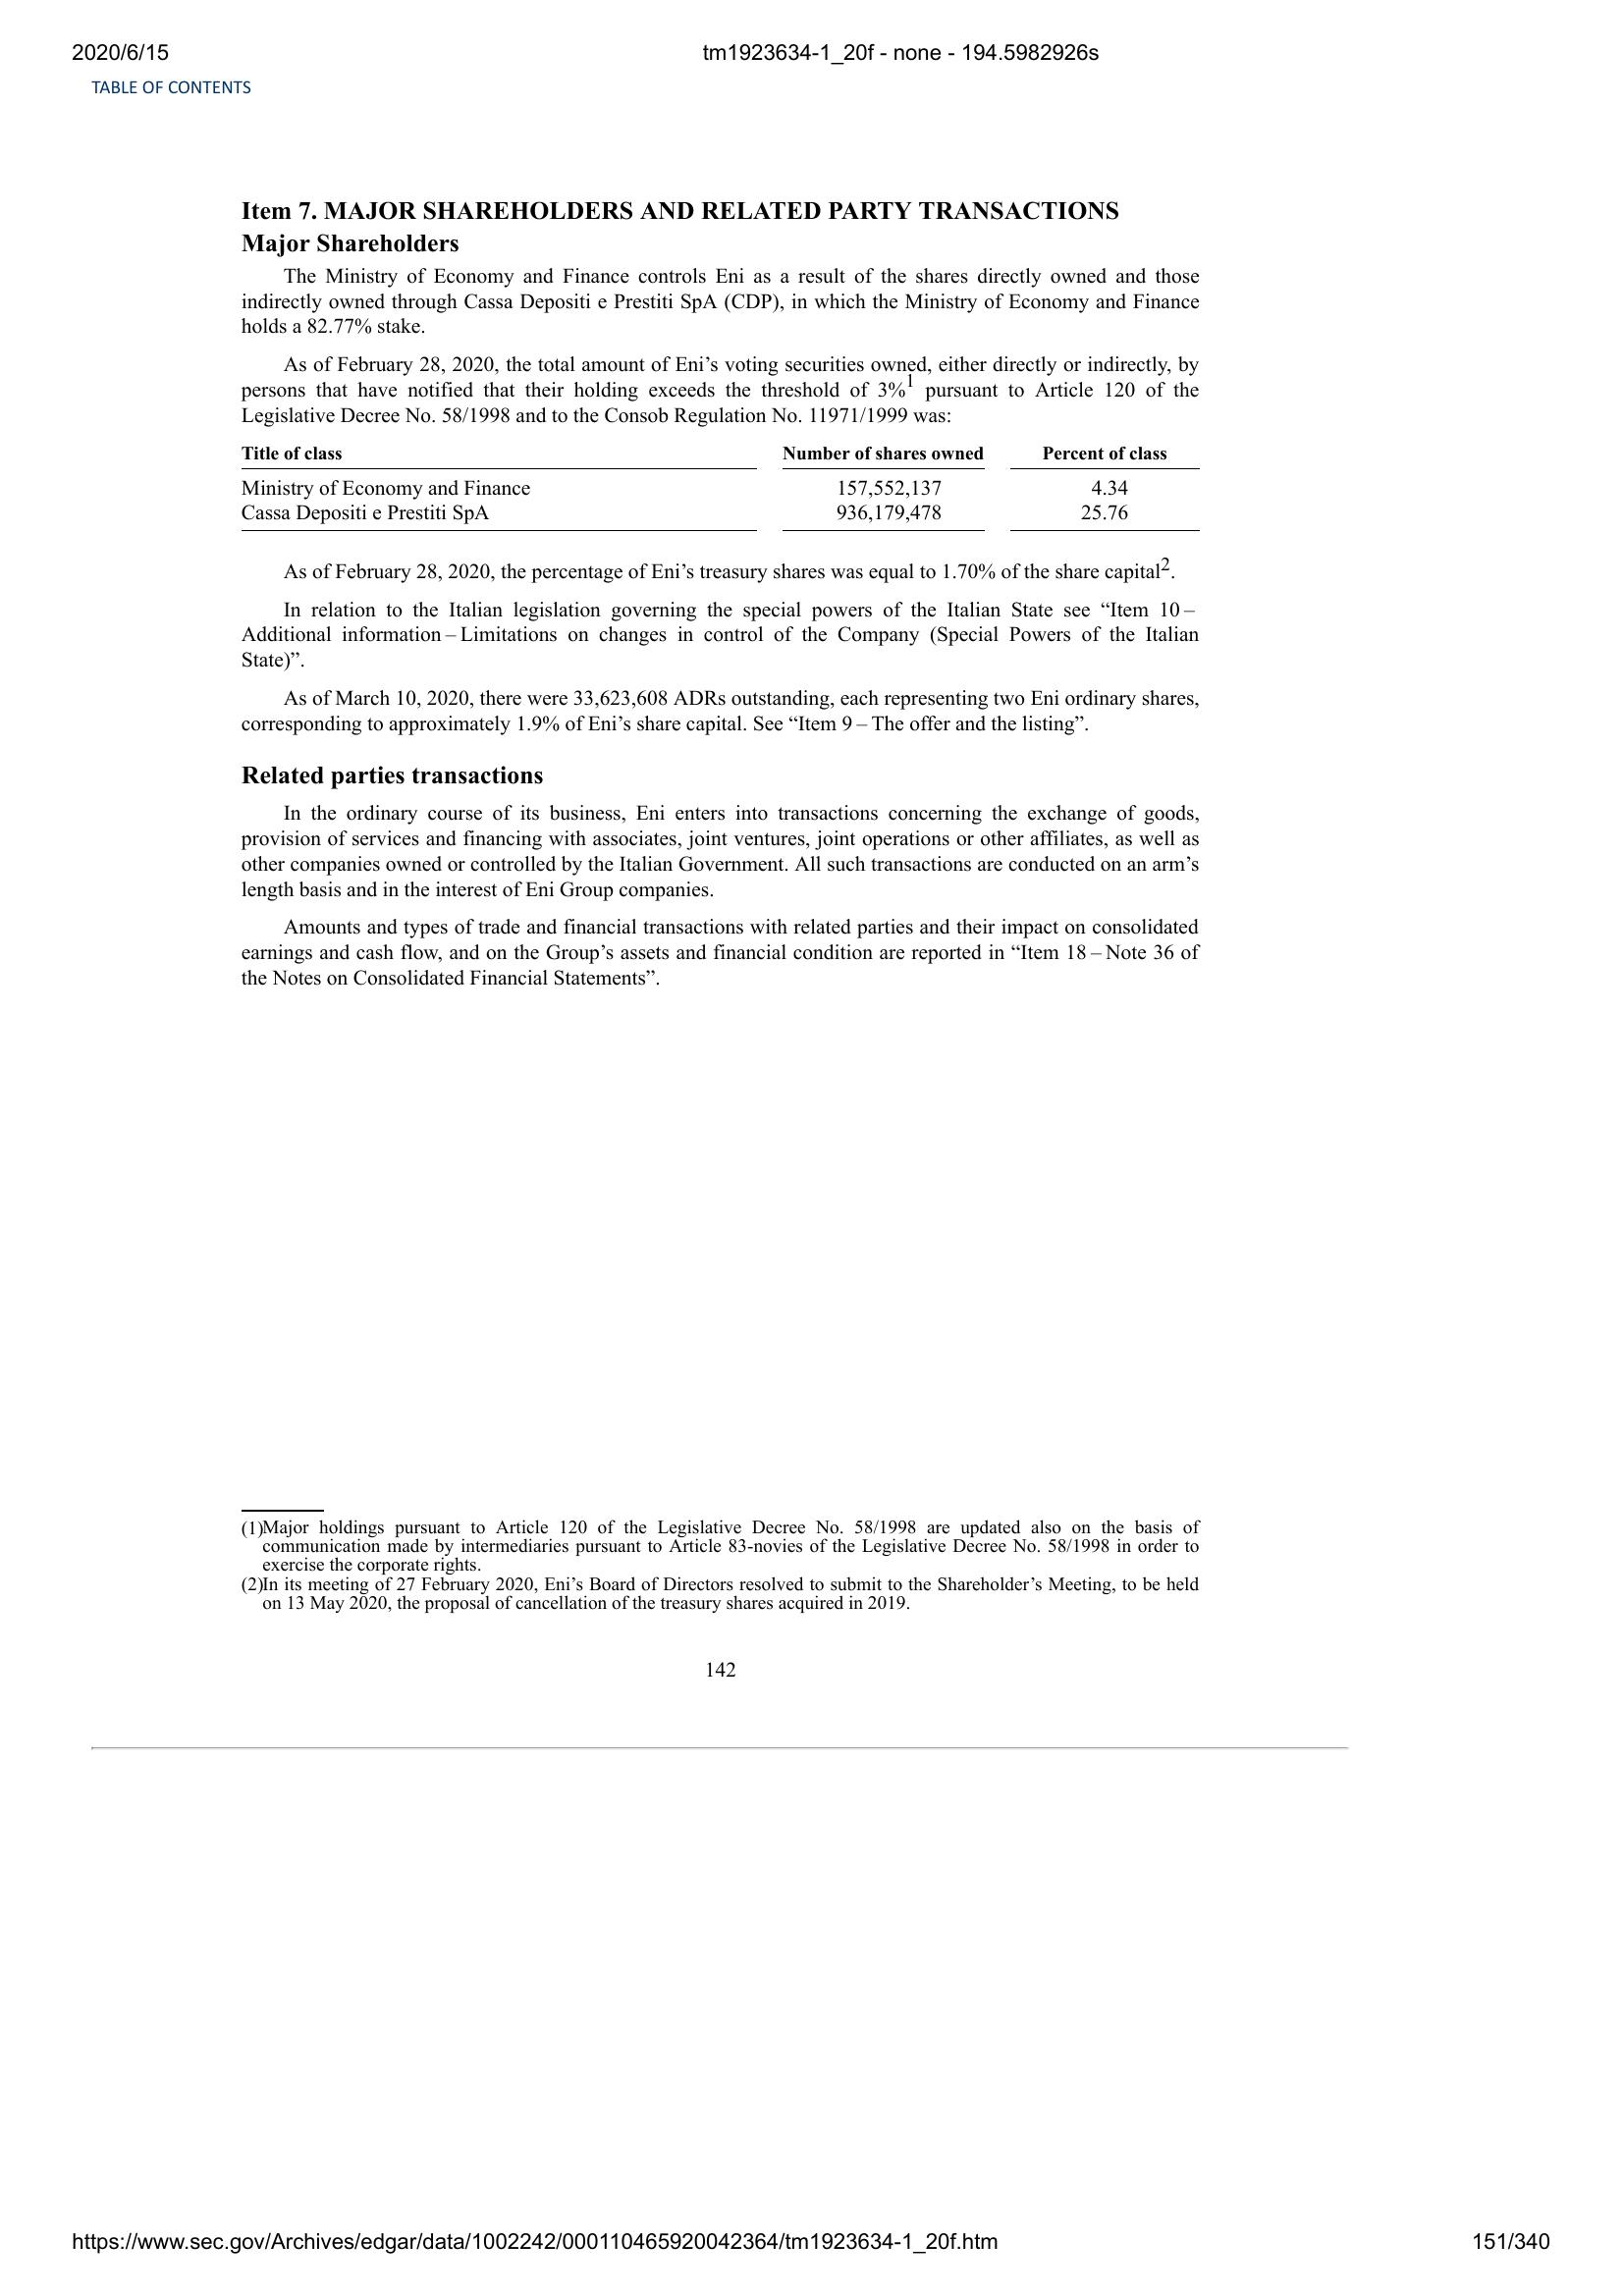table: (228, 441, 1203, 541)
